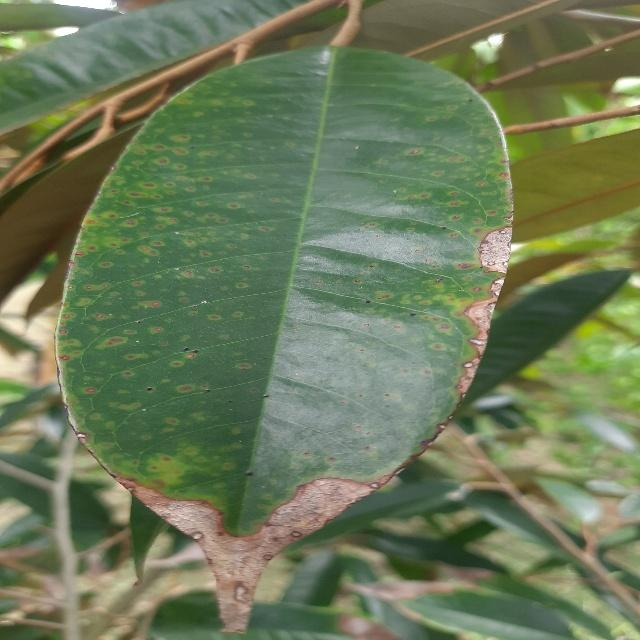Leaf Spot: (51, 37, 522, 640)
